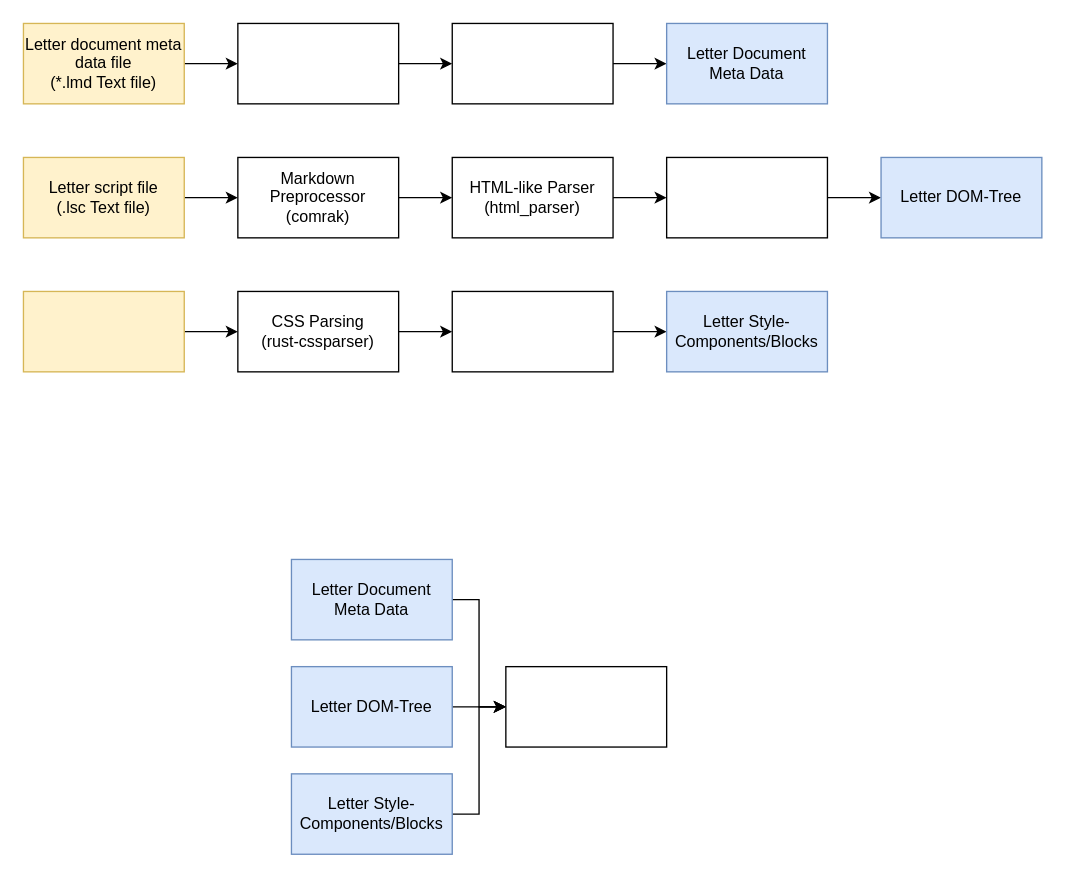
Some shapes in this 1065 by 878 pixel diagram are drawn without their labels. Here are the shapes that lost their labels. From the top down, the box of each, then its label:
(237, 22, 399, 104): TOML Parser
(451, 22, 613, 104): Letter Document meta data Transformer
(665, 156, 827, 238): Letter DOM Tree Transformer
(22, 290, 184, 372): Letter style file (.lst Text file)
(451, 290, 613, 372): Letter CSS Components Tree Transformer
(505, 665, 667, 747): Letter Document Model
